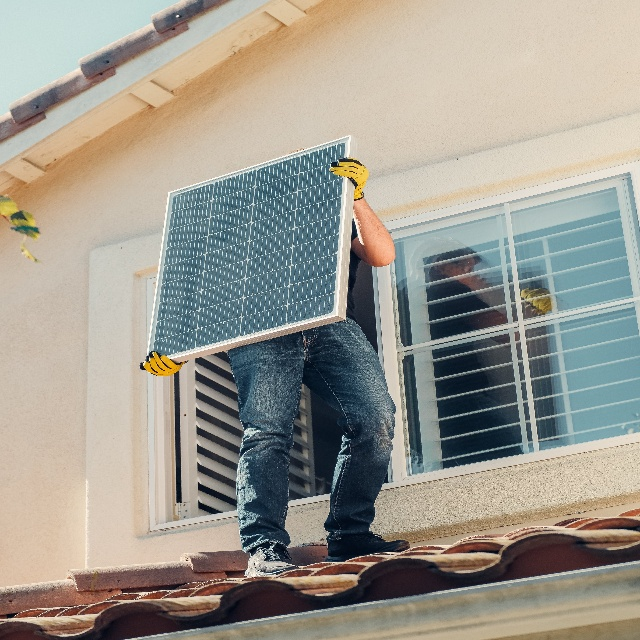Guantes: (329, 156, 371, 194), (139, 350, 183, 378)
